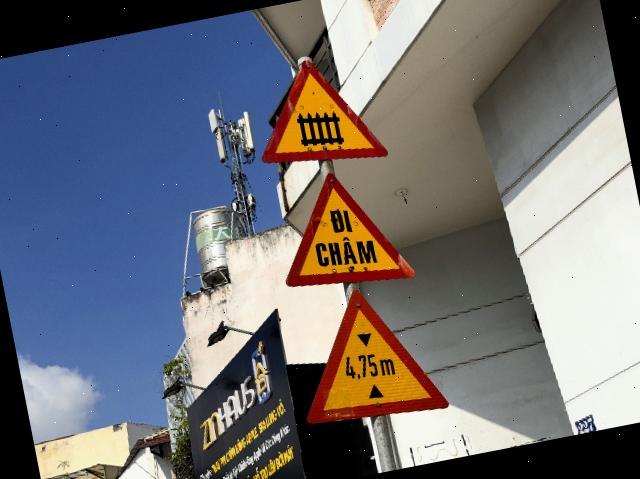chieu-cao-tinh-khong-thuc-te: (283, 274, 450, 435)
di-cham: (266, 158, 416, 302)
noi-giao-nhau-voi-duong-sat-co-rao-chan: (244, 46, 388, 179)
